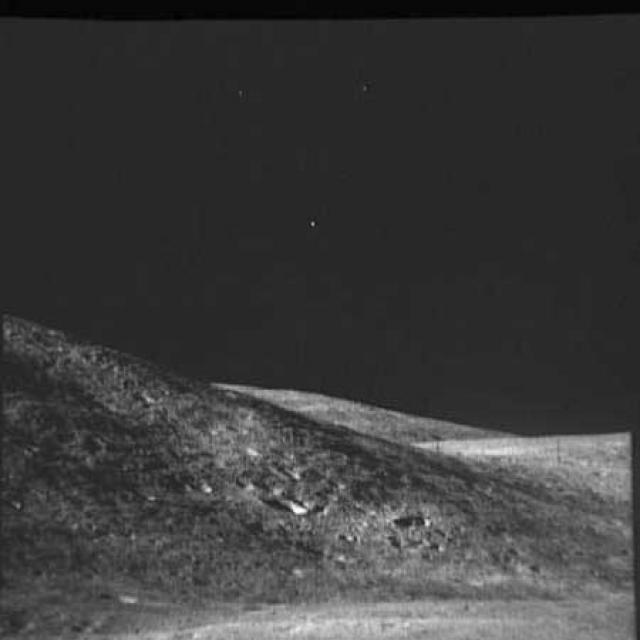crater: (254, 491, 311, 526)
